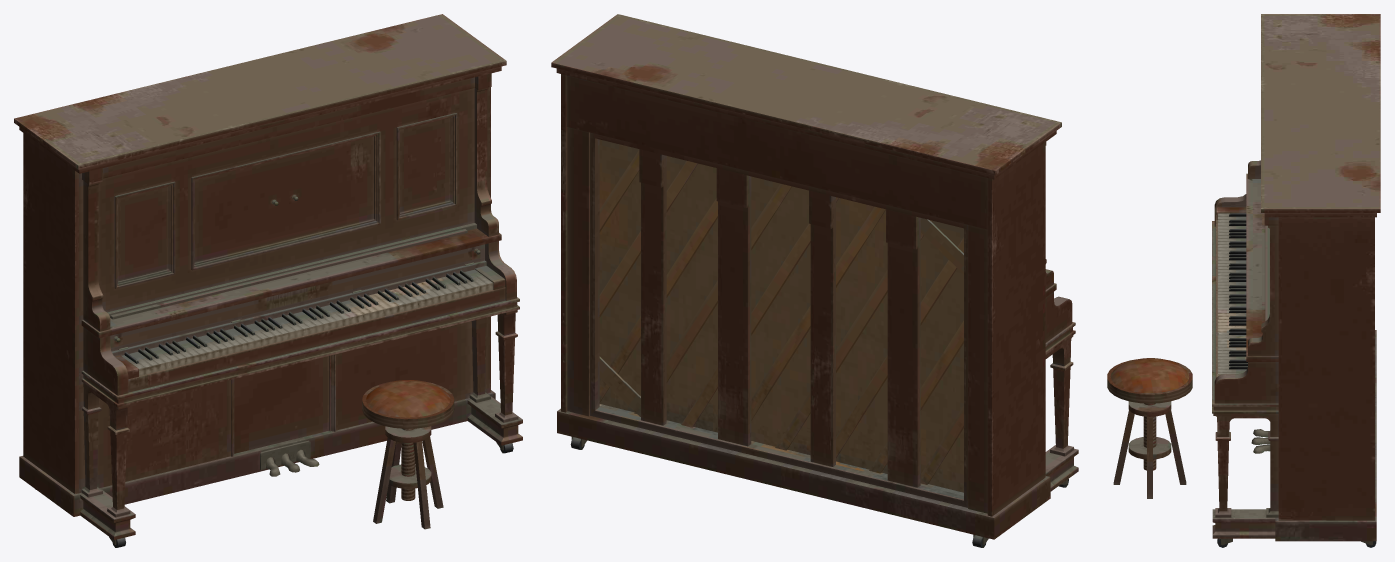
3 renders of one model, left to right at view 1: azimuth 30°, elevation 25°; view 2: azimuth 150°, elevation 25°; view 3: azimuth 270°, elevation 25°, orthographic. The views are drawn at different scales.
Visible parts, largest first — view 1: LP_Piano, LP_Stool_MAT_Piano_0; view 2: LP_Piano; view 3: LP_Piano, LP_Stool_MAT_Piano_0.
Boxes of the visible parts, x1,y1,x2,y2 form: LP_Piano: (14,14,522,547); LP_Stool_MAT_Piano_0: (362,380,454,529); LP_Piano: (551,14,1078,547); LP_Piano: (1212,14,1380,547); LP_Stool_MAT_Piano_0: (1107,358,1192,498).
Bounding box in the file's own units: 1.52 × 1.26 × 0.9027.
1 material, 1 textured.
